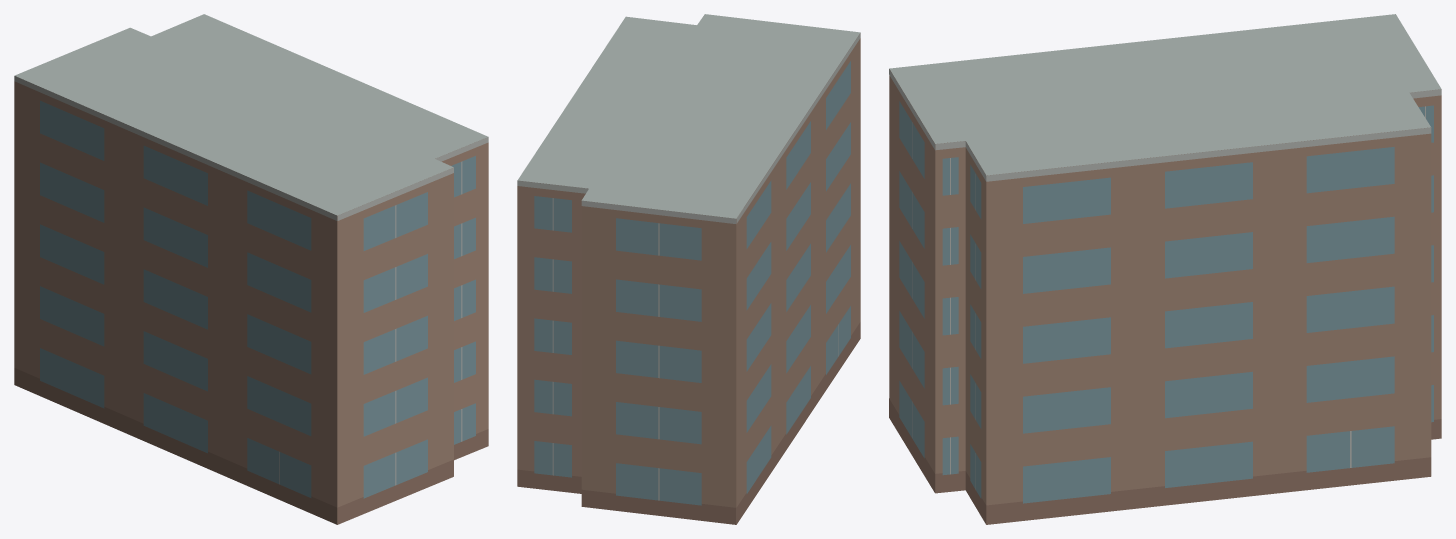
The model's file is survey-upis-32571397.glb.
The picture shows the model from 3 angles, left to right: view 1: azimuth 30°, elevation 25°; view 2: azimuth 150°, elevation 25°; view 3: azimuth 270°, elevation 25°; orthographic projection. The views are drawn at different scales.
Visible parts, largest first — view 1: survey-upis-32571397.tmp; view 2: survey-upis-32571397.tmp; view 3: survey-upis-32571397.tmp.
Boxes of the visible parts, x1,y1,x2,y2 form: survey-upis-32571397.tmp: [14, 14, 488, 524]; survey-upis-32571397.tmp: [517, 14, 860, 524]; survey-upis-32571397.tmp: [889, 14, 1441, 524].
Size of the model in its own units: 13.5 by 13.6 by 19.5.
